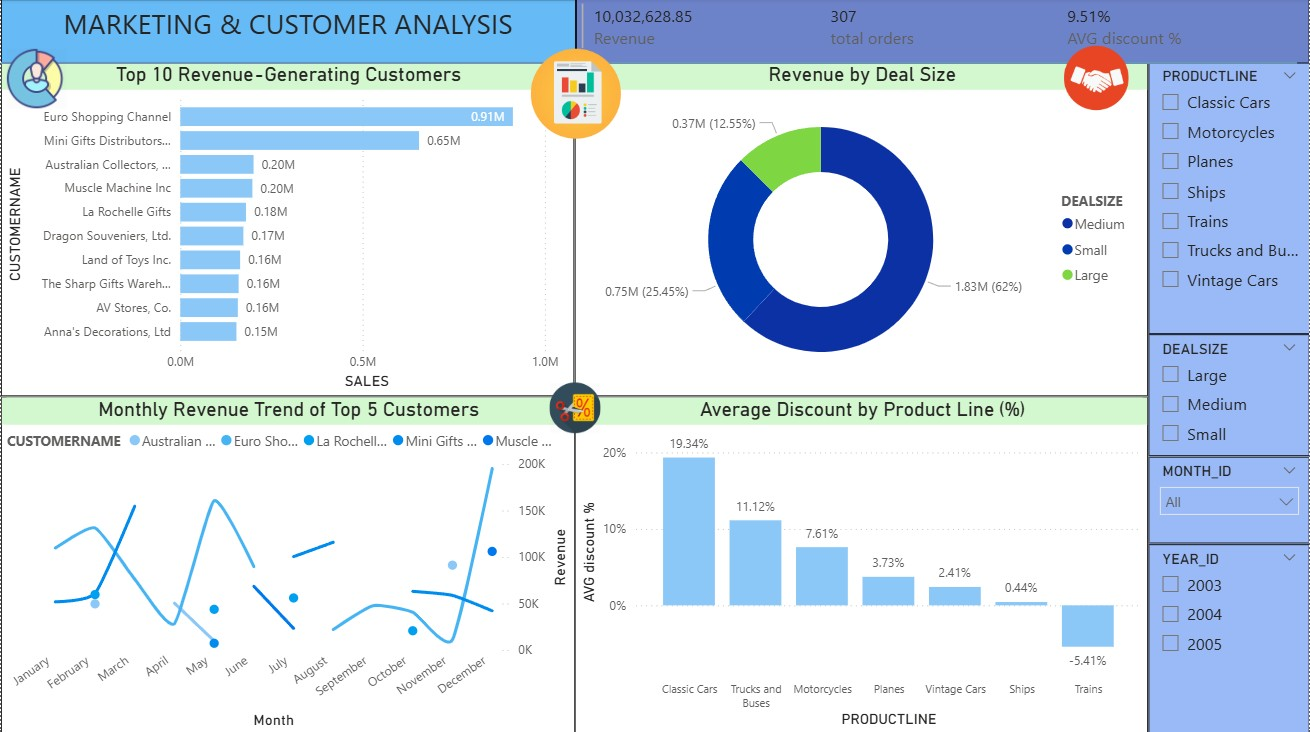

The dashboard page shown, as its layout file describes it:
{"tool":"powerbi","page":{"name":"Marketing&Customer Insights","canvas":[1280,720],"ordinal":2},"visuals":[{"type":"barChart","title":"Top 10 Revenue-Generating Customers","fields":{"Category":["Automobile_sales.CUSTOMERNAME"],"Y":["Sum(Automobile_sales.SALES)"]},"box":[0,62.7,561,326.9],"z":0},{"type":"lineChart","title":"Monthly Revenue Trend of Top 5 Customers","fields":{"Series":["Automobile_sales.CUSTOMERNAME"],"Category":["Automobile_sales.ORDERDATE.Variation.Date Hierarchy.Month"],"Y2":["Automobile_sales.Revenue"]},"box":[0,389.7,561.2,330.7],"z":1000},{"type":"donutChart","title":"Revenue by Deal Size","fields":{"Y":["Automobile_sales.Revenue"],"Category":["Automobile_sales.DEALSIZE"]},"box":[561,62.7,561,326.9],"z":2000},{"type":"columnChart","title":"Average Discount by Product Line (%)","fields":{"Category":["Automobile_sales.PRODUCTLINE"],"Y":["Automobile_sales.AVG discount %"]},"box":[561,390,561,330],"z":3000},{"type":"slicer","fields":{"Values":["Automobile_sales.PRODUCTLINE"]},"box":[1122,62.7,158,266.6],"z":4000},{"type":"slicer","fields":{"Values":["Automobile_sales.DEALSIZE"]},"box":[1122.5,329.3,157.8,119.4],"z":5000},{"type":"slicer","fields":{"Values":["Automobile_sales.MONTH_ID"]},"box":[1122.5,448.7,157.8,85.1],"z":6000},{"type":"slicer","fields":{"Values":["Automobile_sales.YEAR_ID"]},"box":[1122.5,533.8,157.8,185.2],"z":7000},{"type":"multiRowCard","fields":{"Values":["Automobile_sales.Revenue","Automobile_sales.total orders","Automobile_sales.AVG discount %"]},"box":[562.2,0,717.8,63.9],"z":8000},{"type":"textbox","box":[0,1.2,562.2,62.7],"z":9000},{"type":"shape","box":[0,13.3,1268,100.1],"z":10000},{"type":"image","box":[513.9,43.4,97.7,98.9],"z":11000},{"type":"image","box":[532,370.4,59.1,61.5],"z":12000},{"type":"image","box":[0,43.4,70,70],"z":13000},{"type":"image","box":[1033.9,39.8,73.6,77.2],"z":14000}]}

Visuals, with their boxes in screenshot pixels (x1, y1, x2, y2), scaled from the page's 1280x720 canvas onto the 1310x732 screenshot:
"Top 10 Revenue-Generating Customers" barChart: (0,64,574,396)
"Monthly Revenue Trend of Top 5 Customers" lineChart: (0,396,574,731)
"Revenue by Deal Size" donutChart: (574,64,1148,396)
"Average Discount by Product Line (%)" columnChart: (574,396,1148,731)
slicer - Automobile_sales.PRODUCTLINE: (1148,64,1309,335)
slicer - Automobile_sales.DEALSIZE: (1149,335,1309,456)
slicer - Automobile_sales.MONTH_ID: (1149,456,1309,543)
slicer - Automobile_sales.YEAR_ID: (1149,543,1309,731)
multiRowCard - Automobile_sales.Revenue x Automobile_sales.total orders: (575,0,1309,65)
textbox: (0,1,575,65)
shape: (0,14,1298,115)
image: (526,44,626,145)
image: (544,377,605,439)
image: (0,44,72,115)
image: (1058,40,1133,119)
